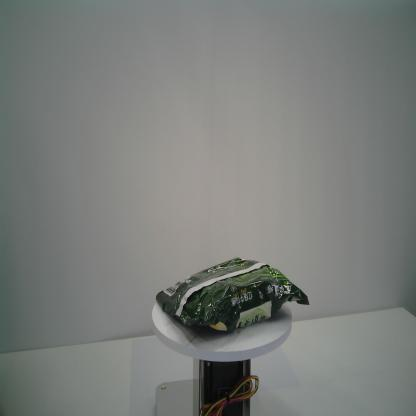Instant Noodles: (154, 256, 311, 340)
